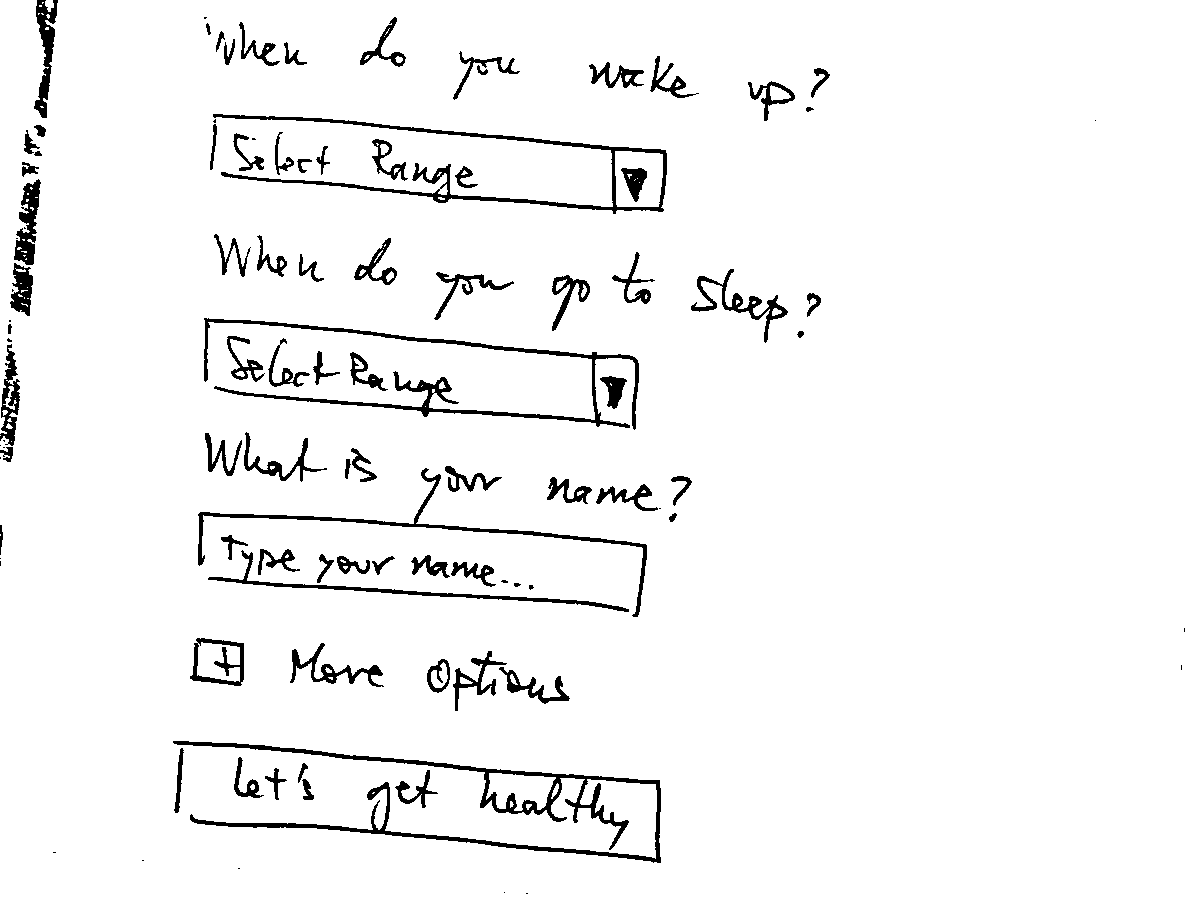Button: (171, 735, 663, 864)
Select: (201, 313, 644, 435), (205, 110, 676, 216)
